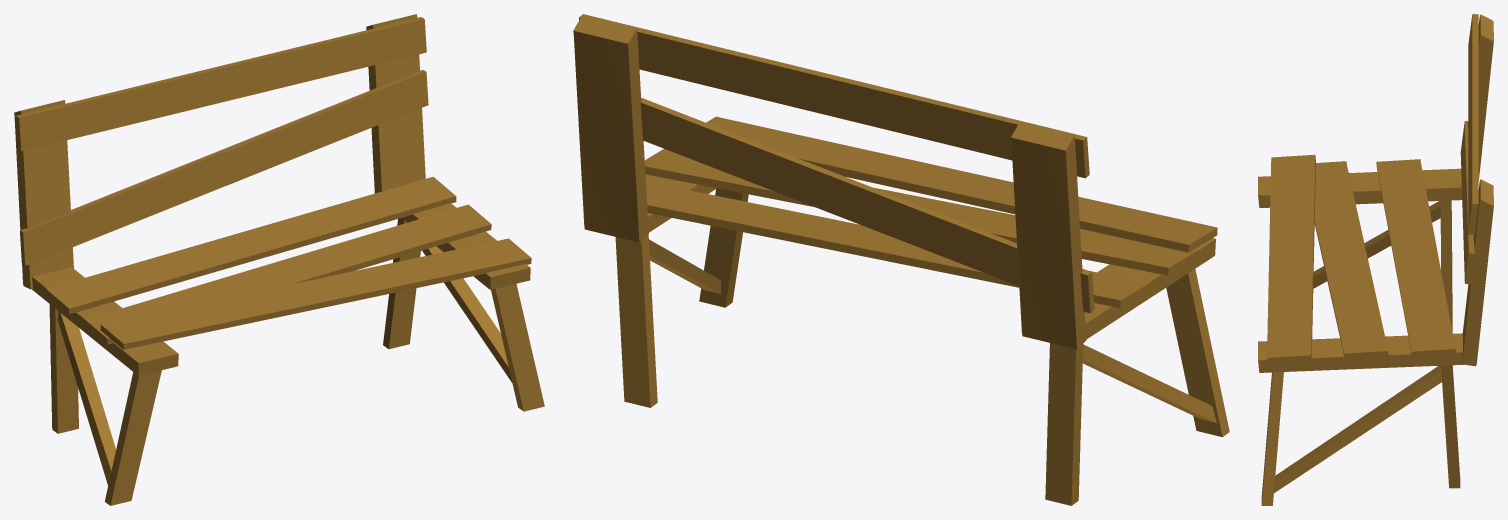
The model's file is Banc3_LowPoly.FBX.
3 views of the same model, side by side, from view 1: azimuth 30°, elevation 25°; view 2: azimuth 150°, elevation 25°; view 3: azimuth 270°, elevation 25° (orthographic). The views are drawn at different scales.
Visible parts, largest first — view 1: Banc 1 High Poly001; view 2: Banc 1 High Poly001; view 3: Banc 1 High Poly001.
Boxes of the visible parts, x1,y1,x2,y2 form: Banc 1 High Poly001: (14, 14, 544, 505); Banc 1 High Poly001: (573, 14, 1229, 505); Banc 1 High Poly001: (1258, 14, 1493, 505).
Size of the model in its own units: 155 by 108 by 76.99.
